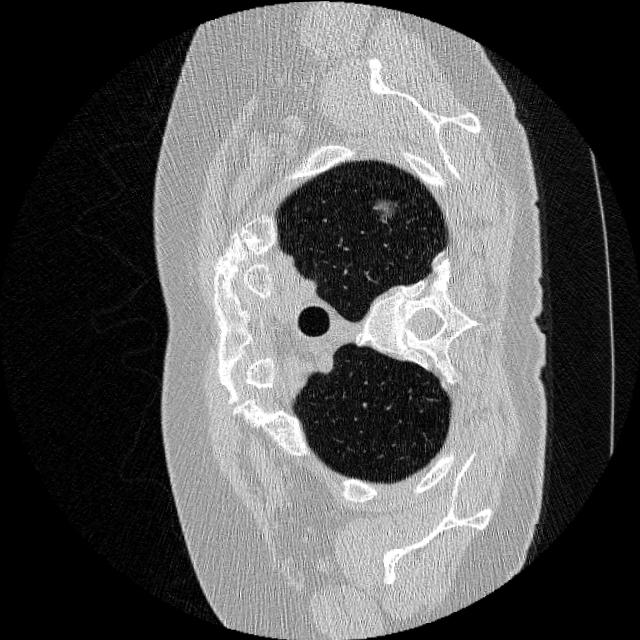nodule: (362, 185, 405, 228)
